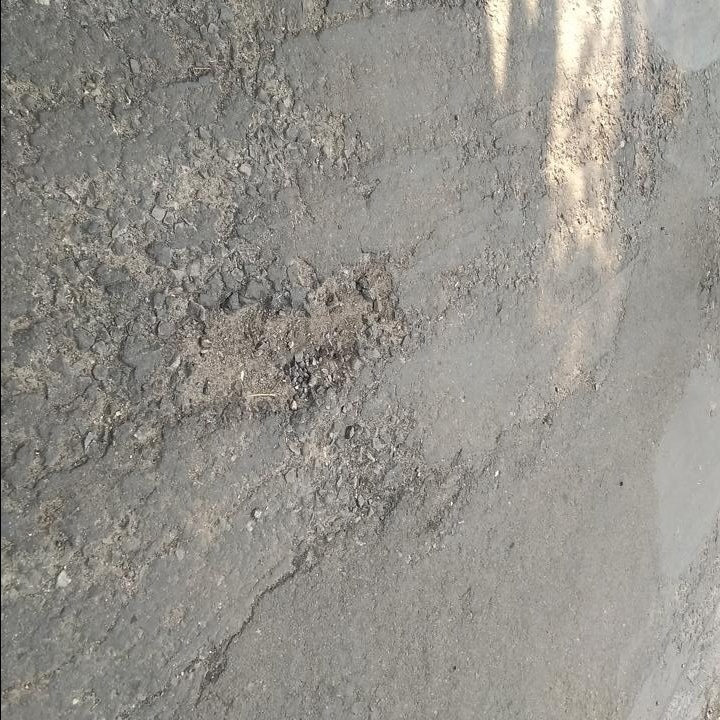pothole: (168, 243, 409, 426), (318, 418, 413, 527)
